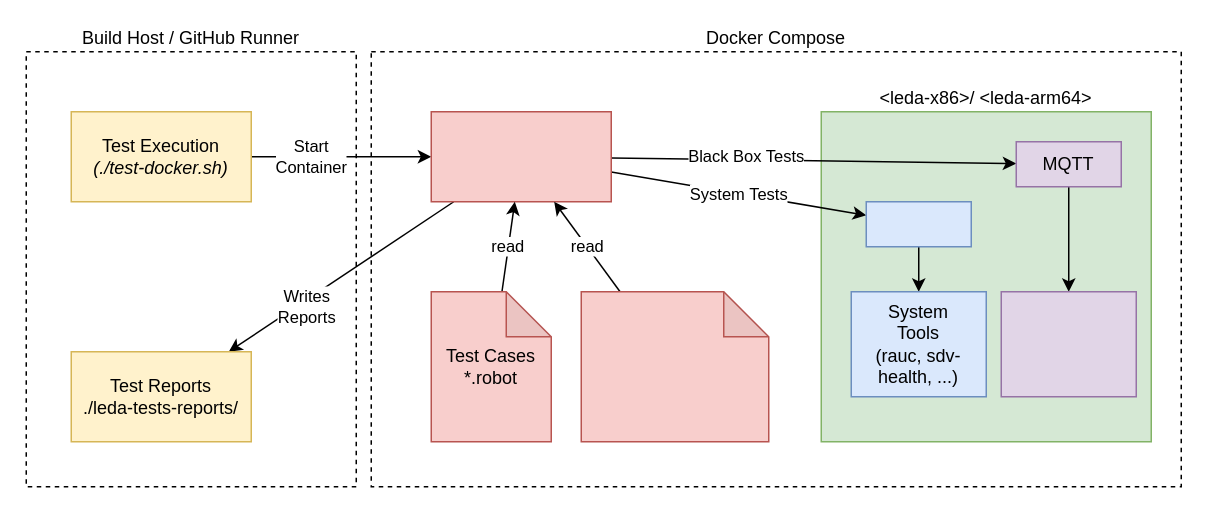
Some shapes in this 1208 by 513 pixel diagram are drawn without their labels. Each missing label, with the centre of its shape:
<leda-tests> Robot Framework: (x=520, y=156)
Robot Variable vars-x86.yaml vars-arm64.yaml: (x=674, y=366)
SDV Components: SUA, VUM, Kanto, ...: (x=1068, y=343)
SSH: (x=918, y=223)
